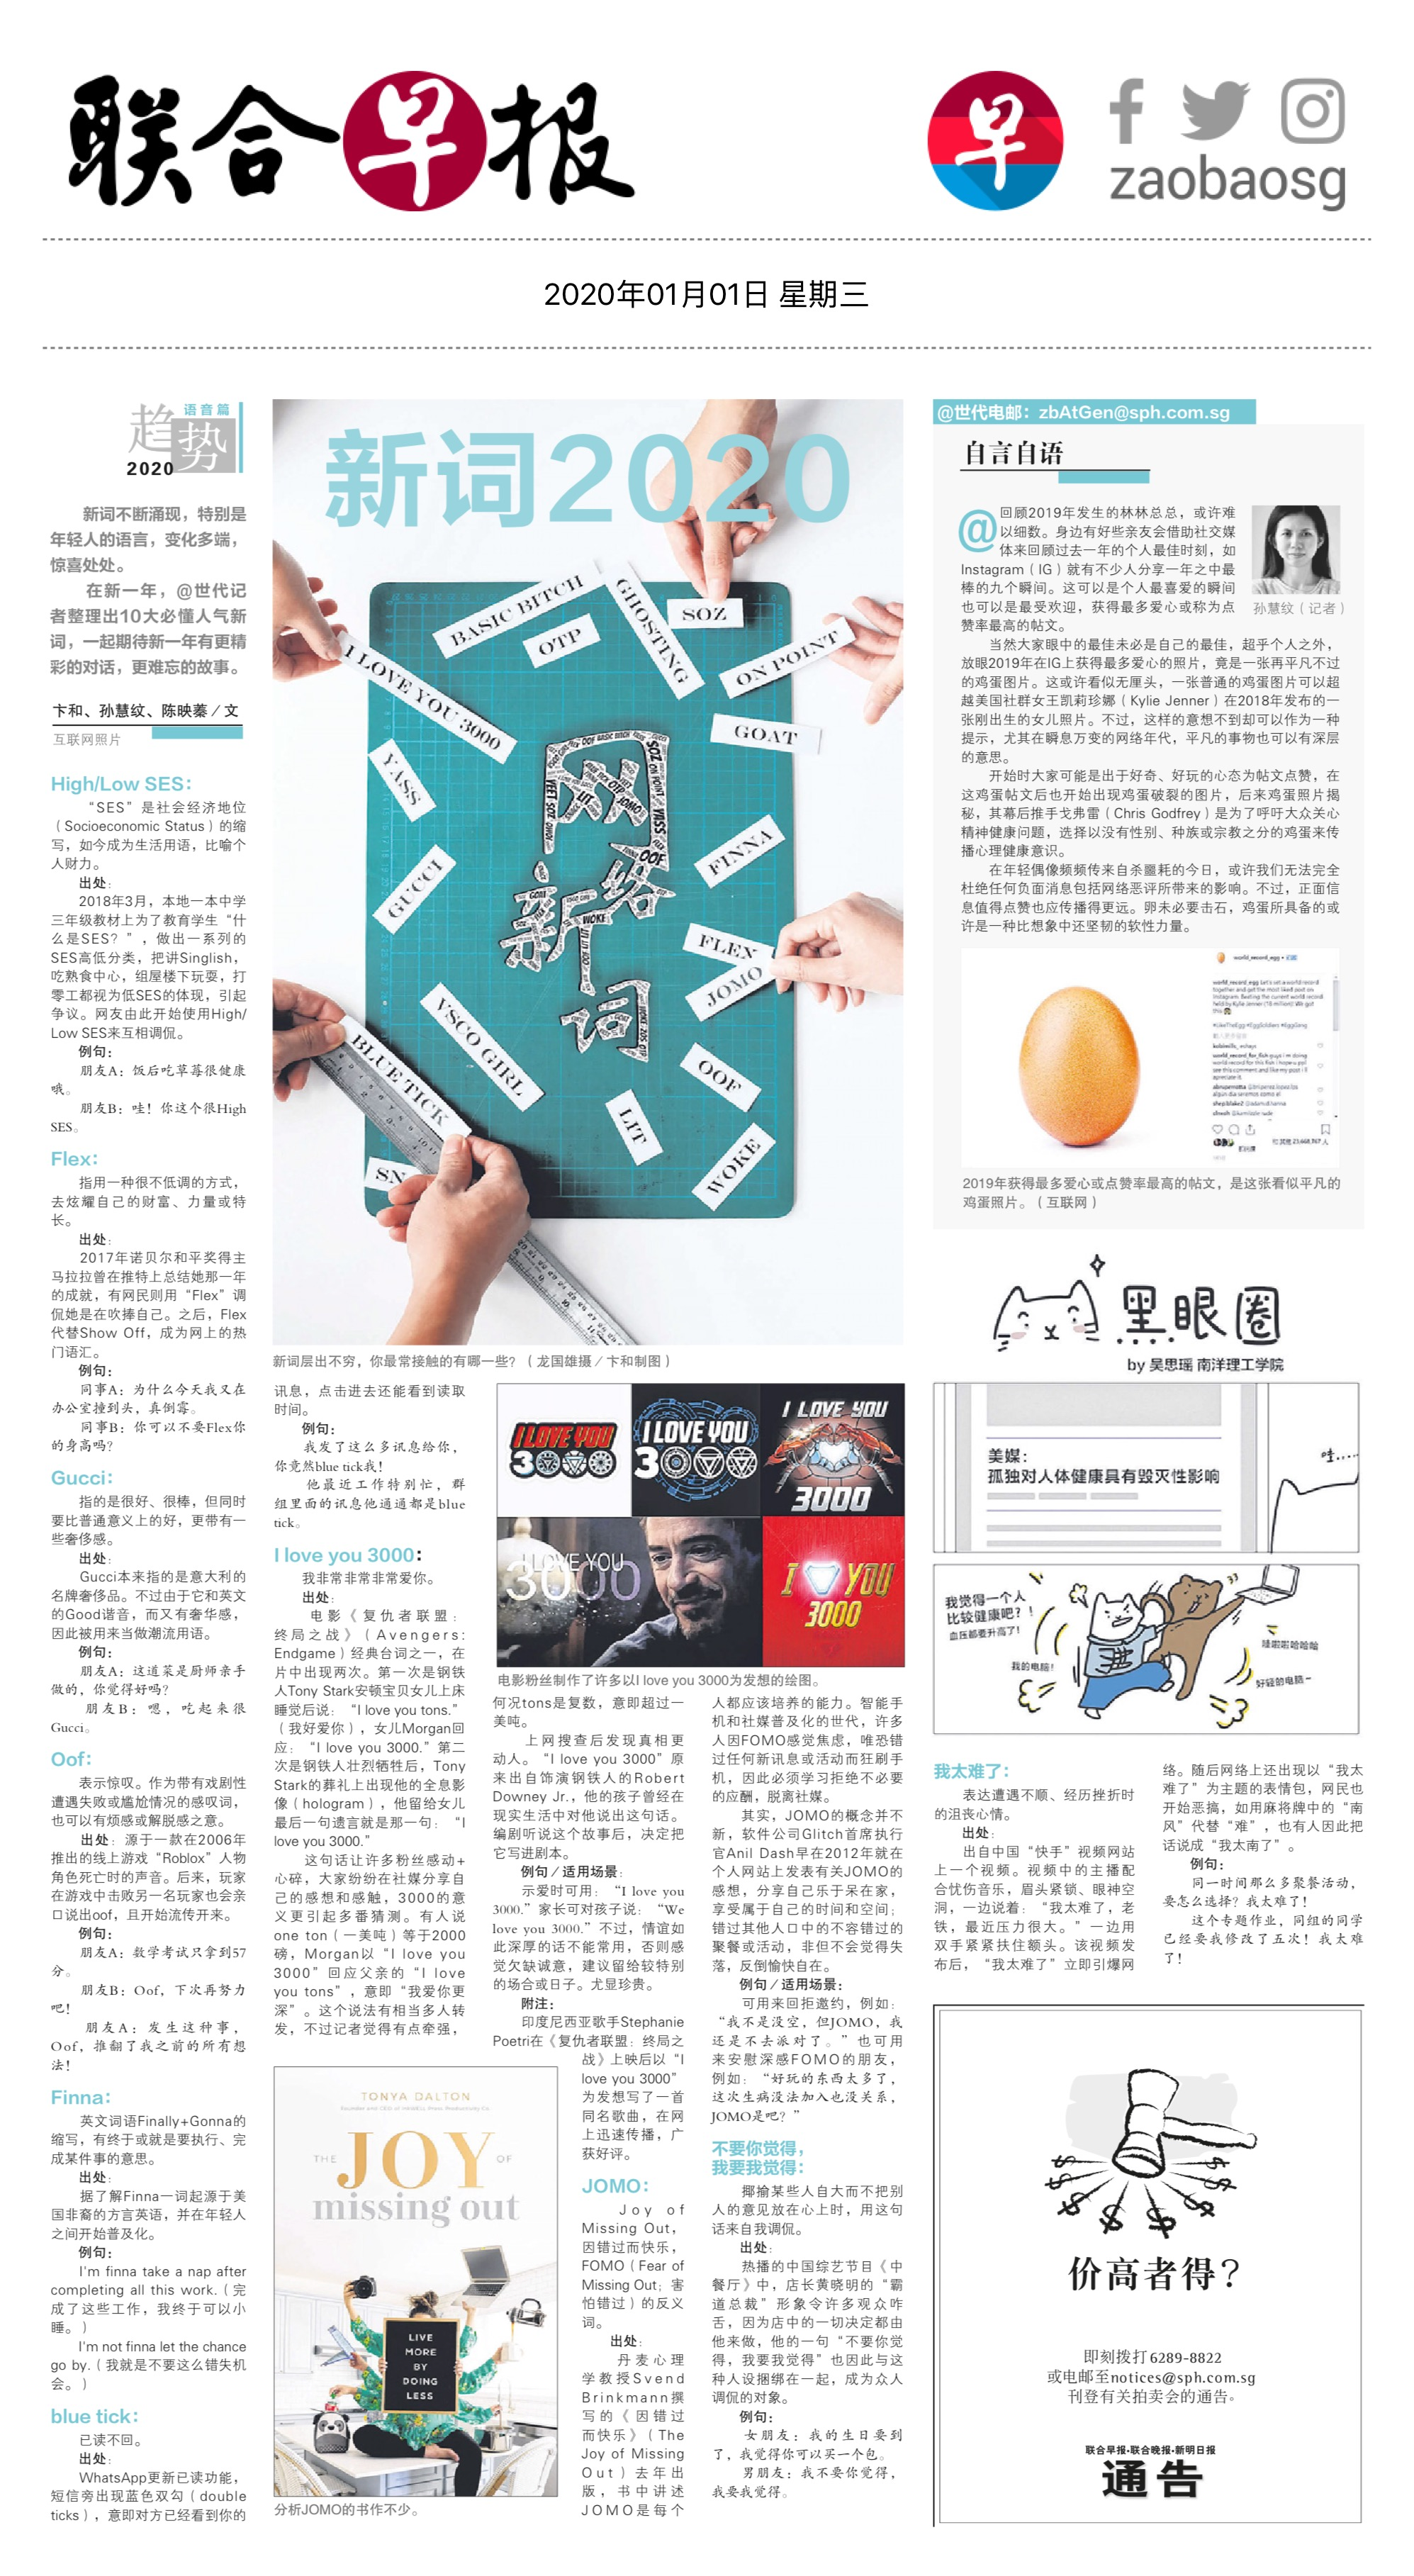heading: (320, 423, 862, 534)
